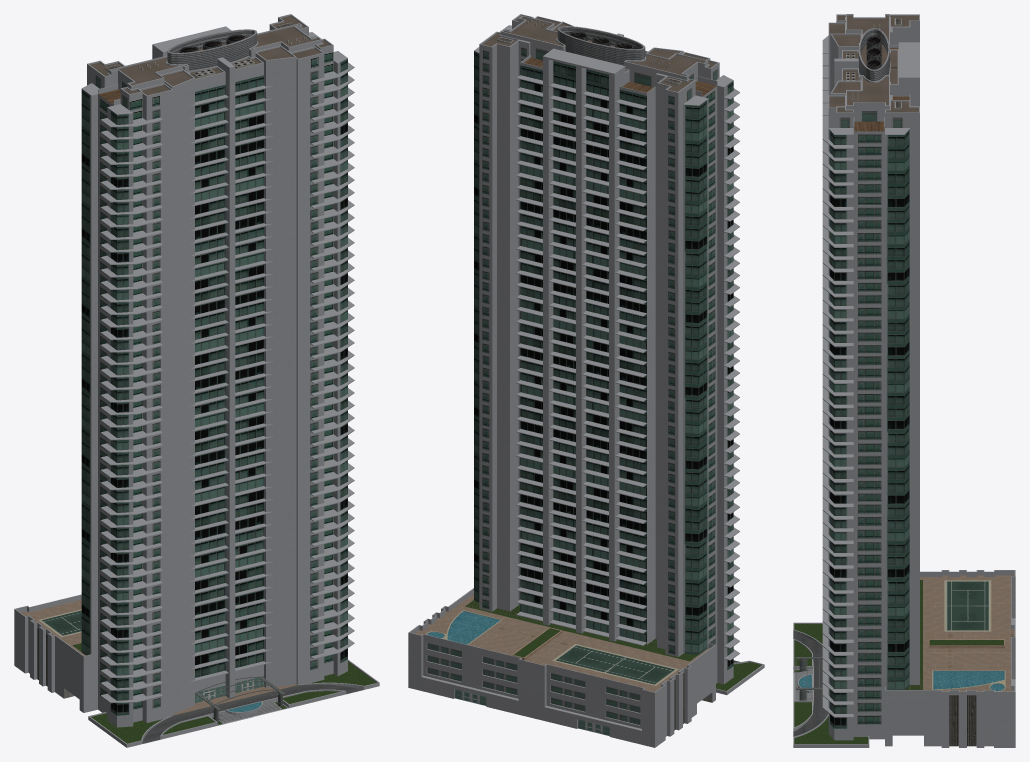
The model's file is torre.glb.
3 views of the same model, side by side, from view 1: azimuth 30°, elevation 25°; view 2: azimuth 150°, elevation 25°; view 3: azimuth 270°, elevation 25° (orthographic). The views are drawn at different scales.
Visible parts, largest first — view 1: hirise8_hirise8_0; view 2: hirise8_hirise8_0; view 3: hirise8_hirise8_0.
Part boxes in pixels (x1=…): hirise8_hirise8_0: x1=14, y1=14, x2=379, y2=747; hirise8_hirise8_0: x1=408, y1=14, x2=764, y2=747; hirise8_hirise8_0: x1=793, y1=14, x2=1015, y2=747.
Size of the model in its own units: 6665 by 16249 by 5130.
1 material, 1 textured.
